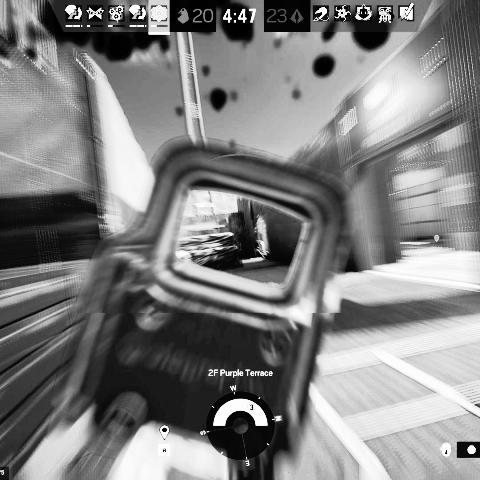Character: (233, 238, 247, 260)
